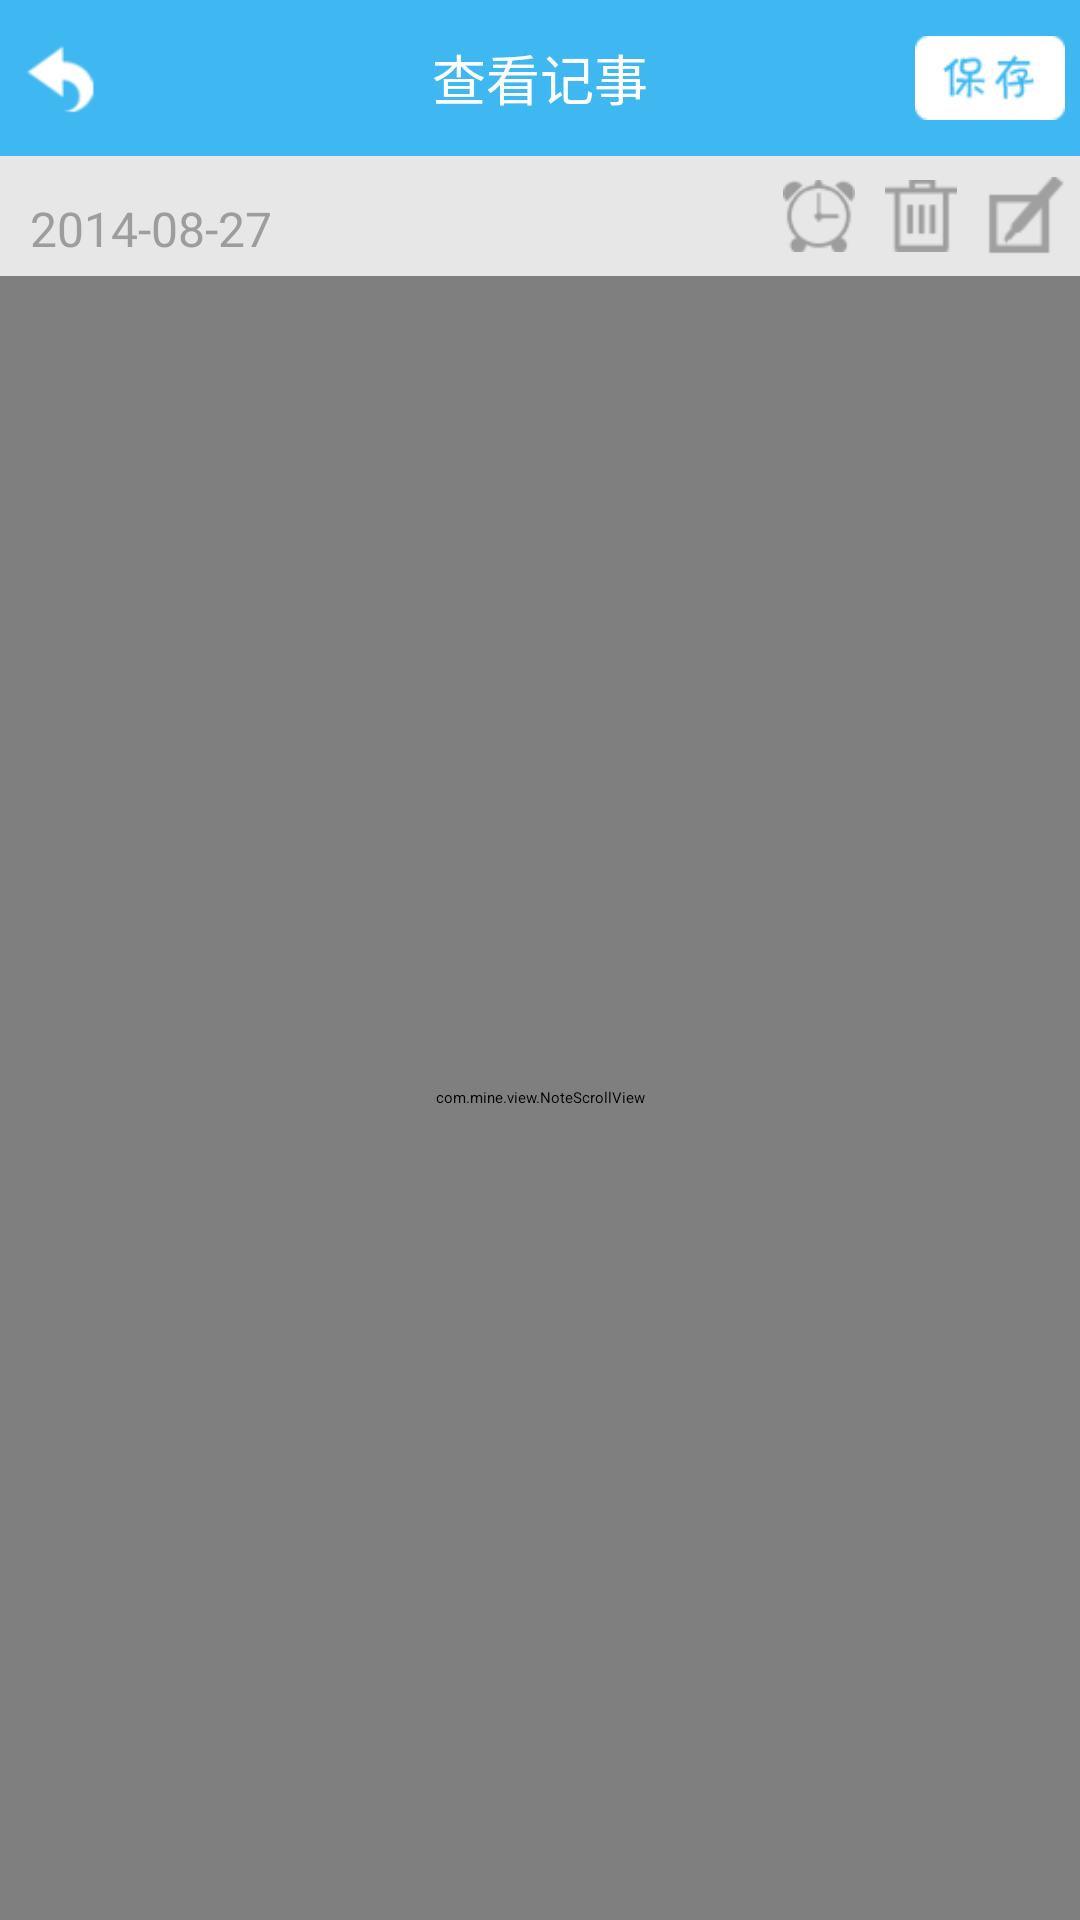

Named icons in this screenshot (1080×1920) and their bounding boxes, (x1, y1, x2, y2):
select back: (27, 47, 94, 112)
